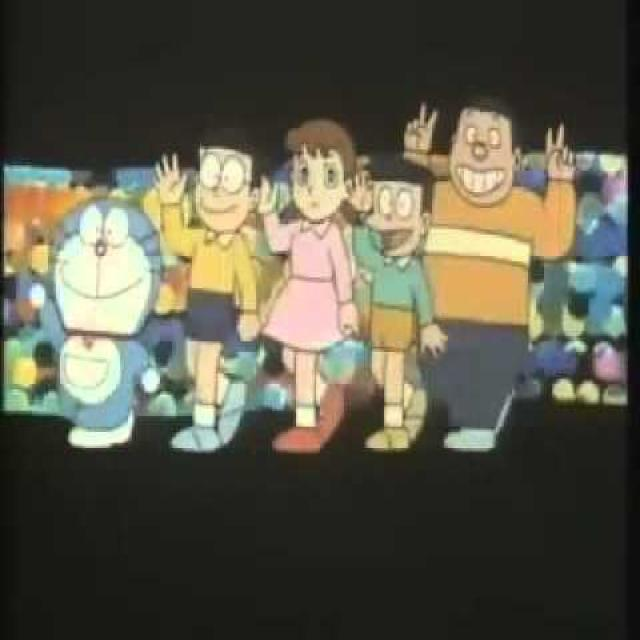doraemon: (40, 189, 169, 359)
jaian: (444, 85, 524, 210)
nobita: (189, 118, 260, 238)
shizuka: (280, 108, 365, 240)
suneo: (365, 137, 439, 275)
